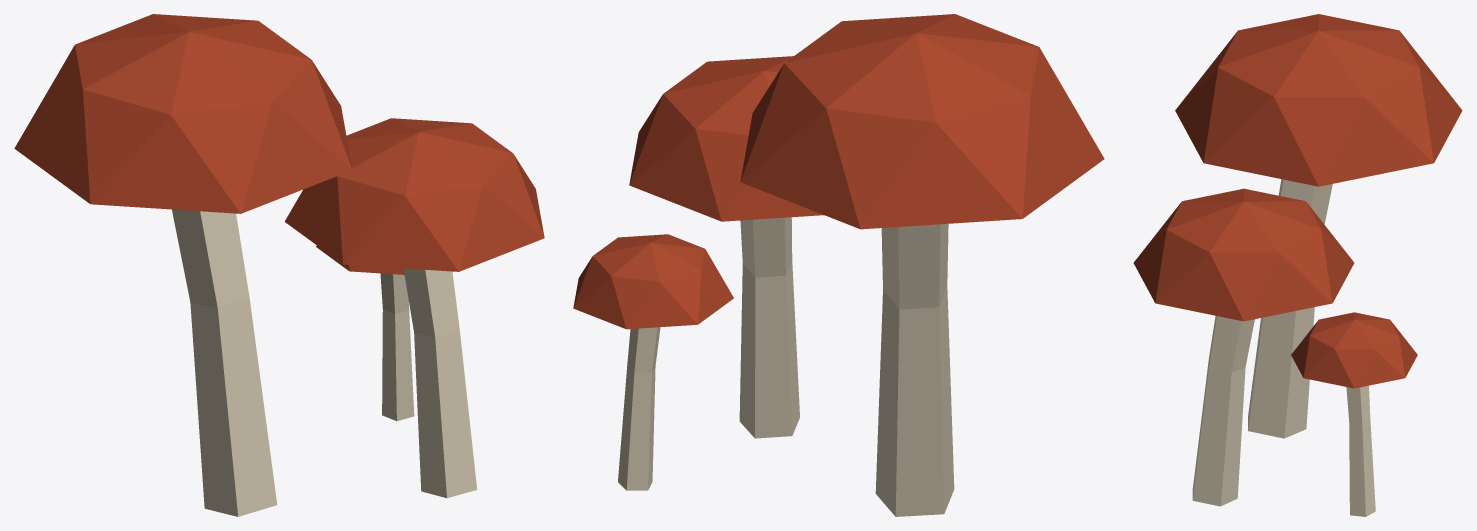
Rendered from mushroom_cluster.fbx.
3 views of the same model, side by side, from view 1: azimuth 30°, elevation 25°; view 2: azimuth 150°, elevation 25°; view 3: azimuth 270°, elevation 25° (orthographic). The views are drawn at different scales.
Parts seen in each view (by area): view 1: mushroom_cluster; view 2: mushroom_cluster; view 3: mushroom_cluster.
Boxes of the visible parts, x1,y1,x2,y2 form: mushroom_cluster: (14, 14, 544, 516); mushroom_cluster: (573, 14, 1104, 516); mushroom_cluster: (1133, 14, 1462, 516).
Bounding box in the file's own units: 14.9 × 14.94 × 11.51.
1 material, 1 textured.
